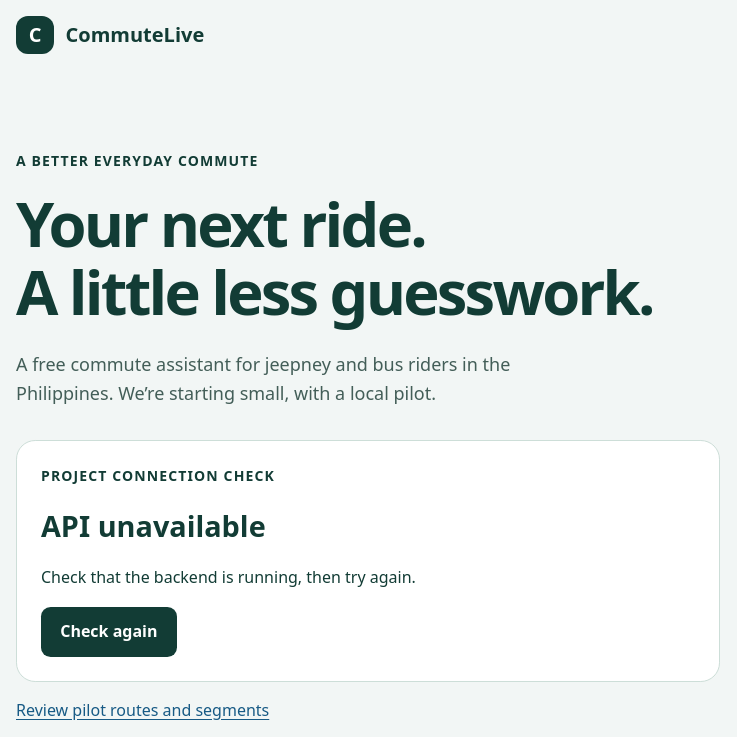
Test: API connection › shows a recoverable error for network failure
Expected: the text "API unavailable" is shown, [41, 506, 266, 545]
What coordinates should you click on to do the following:
click the button "Check again"
I would click on:
 (109, 632)
Its box is [41, 607, 177, 656].
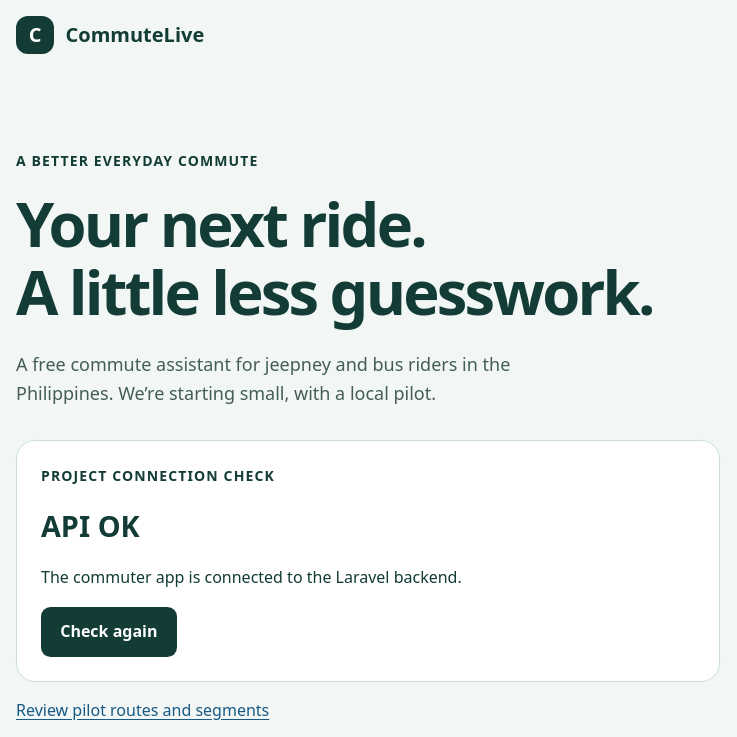
Result: the text "API OK" is shown at [41, 506, 140, 545]
